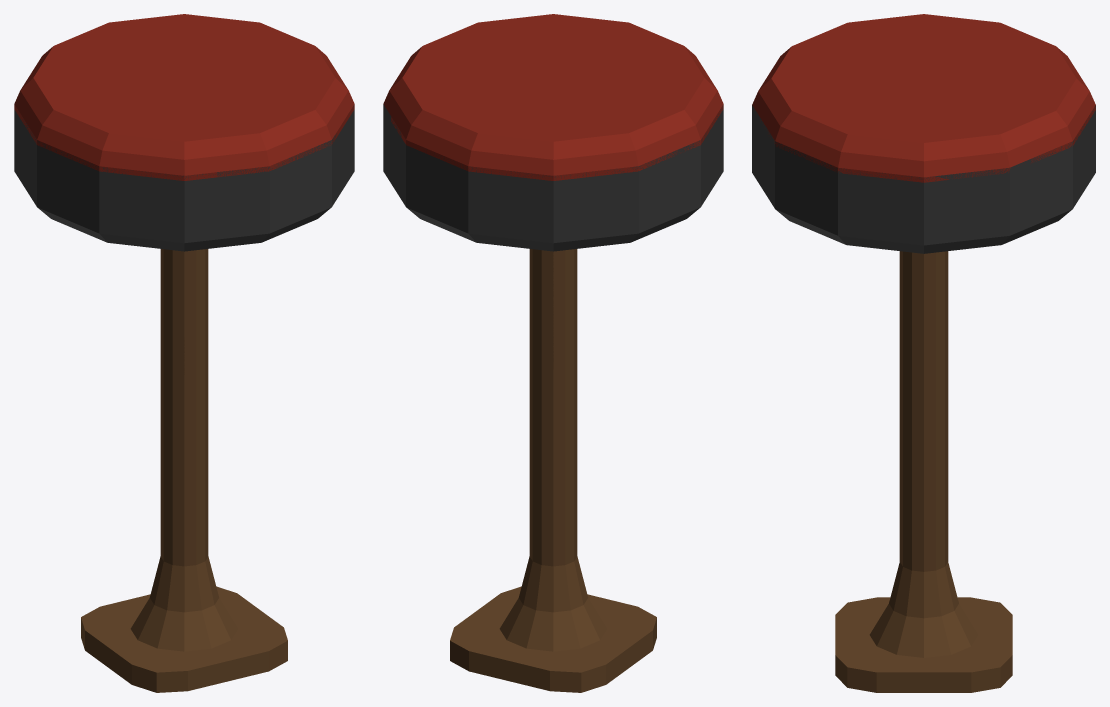
Rendered from LongStoolBroken.fbx.
The picture shows the model from 3 angles, left to right: view 1: azimuth 30°, elevation 25°; view 2: azimuth 150°, elevation 25°; view 3: azimuth 270°, elevation 25°; orthographic projection.
Parts seen in each view (by area): view 1: Cylinder, Cylinder_cell.003, Cylinder_cell.009, Cylinder_cell.001, Cylinder_cell.004, Cylinder_cell.002, Cylinder_cell.007, Cylinder_cell.005, Cylinder_cell, Cylinder_cell.008; view 2: Cylinder, Cylinder_cell, Cylinder_cell.004, Cylinder_cell.009, Cylinder_cell.005, Cylinder_cell.001, Cylinder_cell.007, Cylinder_cell.002, Cylinder_cell.003; view 3: Cylinder, Cylinder_cell, Cylinder_cell.005, Cylinder_cell.009, Cylinder_cell.002, Cylinder_cell.003, Cylinder_cell.004, Cylinder_cell.006, Cylinder_cell.007, Cylinder_cell.001.
Boxes of the visible parts, box(x1,y1,x2,y2) form: Cylinder: box(14, 15, 354, 692); Cylinder_cell.003: box(205, 96, 342, 245); Cylinder_cell.009: box(81, 586, 287, 692); Cylinder_cell.001: box(23, 109, 238, 251); Cylinder_cell.004: box(17, 14, 191, 141); Cylinder_cell.002: box(160, 362, 209, 641); Cylinder_cell.007: box(160, 249, 206, 367); Cylinder_cell.005: box(233, 19, 348, 112); Cylinder_cell: box(33, 19, 244, 136); Cylinder_cell.008: box(162, 331, 200, 374); Cylinder: box(383, 14, 723, 692); Cylinder_cell: box(387, 41, 681, 218); Cylinder_cell.004: box(403, 106, 677, 250); Cylinder_cell.009: box(450, 586, 656, 692); Cylinder_cell.005: box(383, 18, 559, 147); Cylinder_cell.001: box(647, 40, 723, 235); Cylinder_cell.007: box(530, 249, 577, 369); Cylinder_cell.002: box(530, 361, 584, 627); Cylinder_cell.003: box(540, 17, 670, 45); Cylinder: box(753, 14, 1095, 688); Cylinder_cell: box(791, 19, 1067, 242); Cylinder_cell.005: box(809, 93, 1031, 198); Cylinder_cell.009: box(835, 597, 1012, 692); Cylinder_cell.002: box(899, 362, 948, 601); Cylinder_cell.003: box(752, 54, 854, 230); Cylinder_cell.004: box(957, 17, 1095, 211); Cylinder_cell.006: box(804, 149, 1022, 253); Cylinder_cell.007: box(899, 251, 945, 373); Cylinder_cell.001: box(774, 14, 925, 65).
Bounding box in the file's own units: 2.18 × 4.04 × 2.18.
